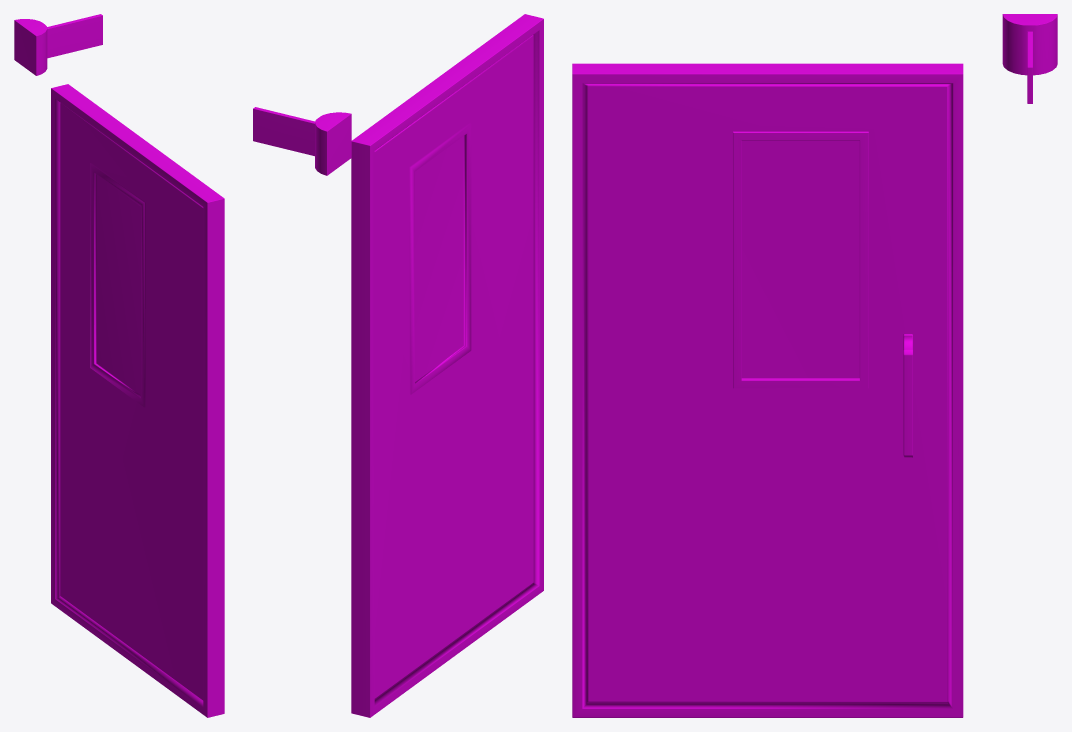
Rendered from School_ClassDoor 1.fbx.
The picture shows the model from 3 angles, left to right: view 1: azimuth 30°, elevation 25°; view 2: azimuth 150°, elevation 25°; view 3: azimuth 270°, elevation 25°; orthographic projection. The views are drawn at different scales.
Parts seen in each view (by area): view 1: ClassDoor, ClassDoor_Name; view 2: ClassDoor, ClassDoor_Name; view 3: ClassDoor, ClassDoor_Name, ClassDoor_Handle.
Part boxes in pixels (x1,y1,x2,y2): ClassDoor: (51, 84, 224, 717); ClassDoor_Name: (14, 14, 102, 75); ClassDoor: (351, 14, 543, 717); ClassDoor_Name: (253, 107, 351, 175); ClassDoor: (572, 63, 963, 717); ClassDoor_Name: (1002, 14, 1057, 103); ClassDoor_Handle: (903, 334, 912, 457).
Bounding box in the file's own units: 1.07 × 7.27 × 4.61.
